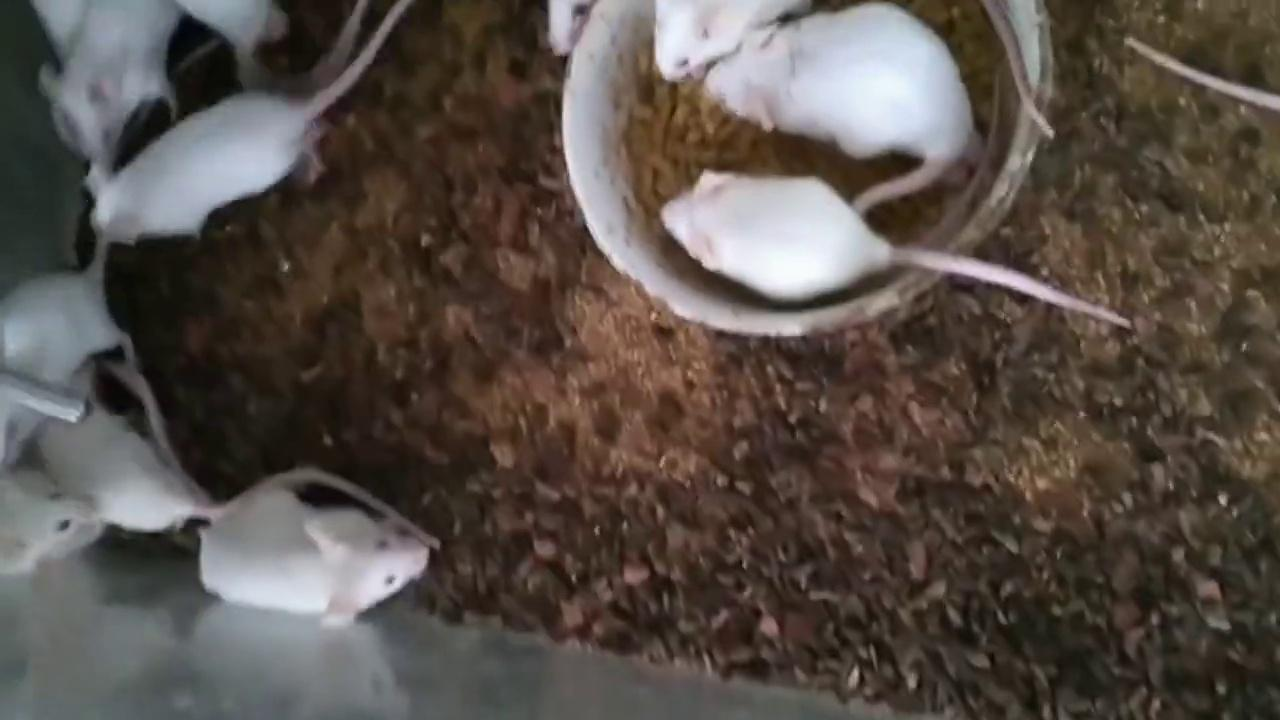rat: (87, 0, 410, 239), (663, 171, 1131, 329), (706, 3, 974, 219), (200, 485, 429, 627), (0, 240, 136, 462), (32, 0, 184, 171), (36, 402, 229, 530), (656, 0, 812, 81), (0, 466, 99, 574)
